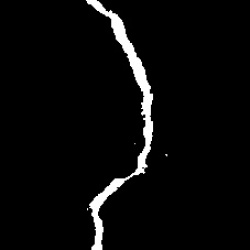crack: (86, 1, 153, 249)
